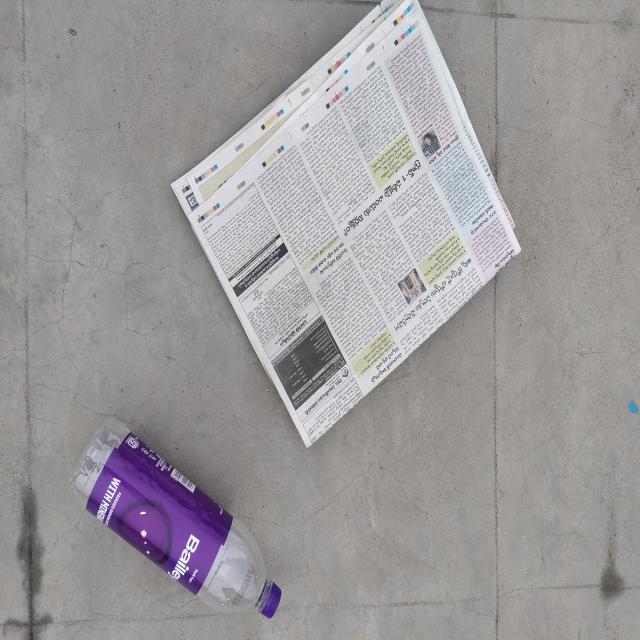paper: (172, 2, 522, 448)
plastic: (69, 414, 281, 620)
